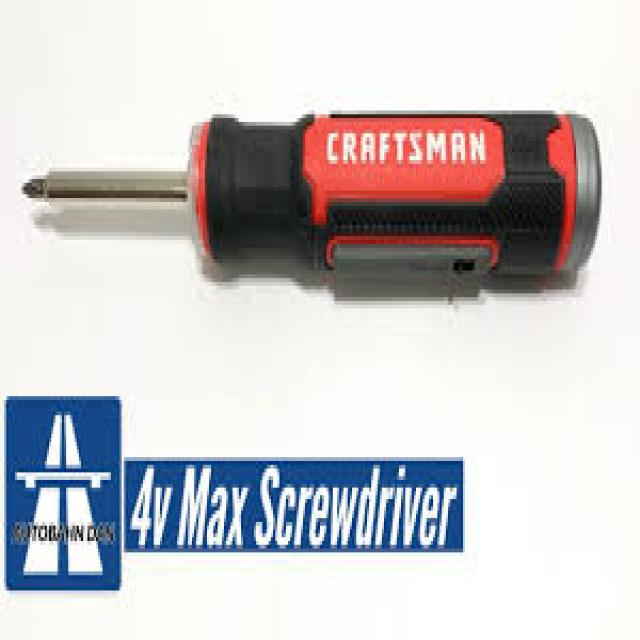screw driver: (6, 78, 621, 354)
